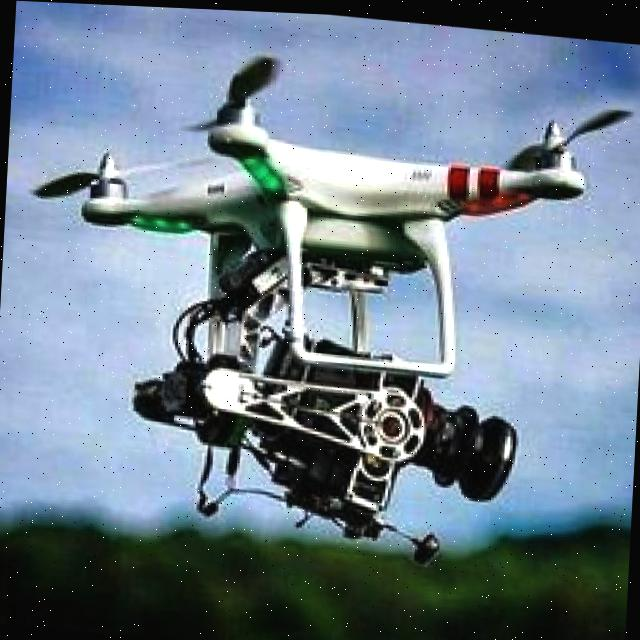drone: (52, 37, 629, 357)
